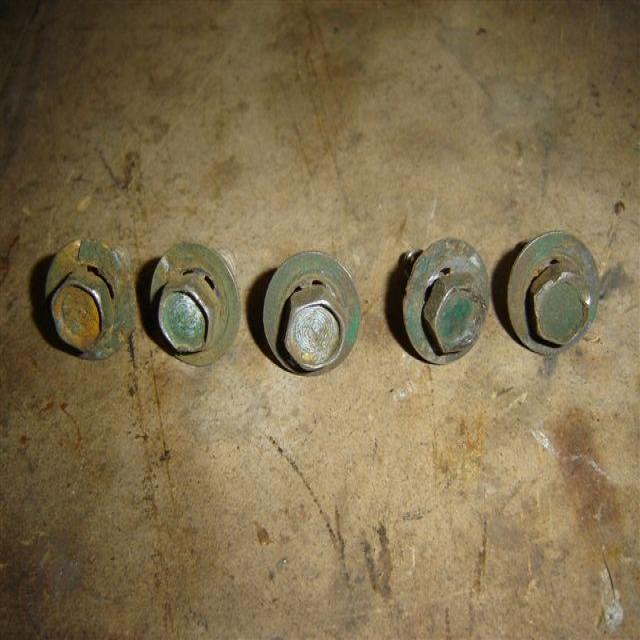bolt head: (277, 284, 347, 375), (47, 267, 112, 356), (420, 271, 488, 356), (529, 260, 591, 347), (155, 275, 220, 356)
